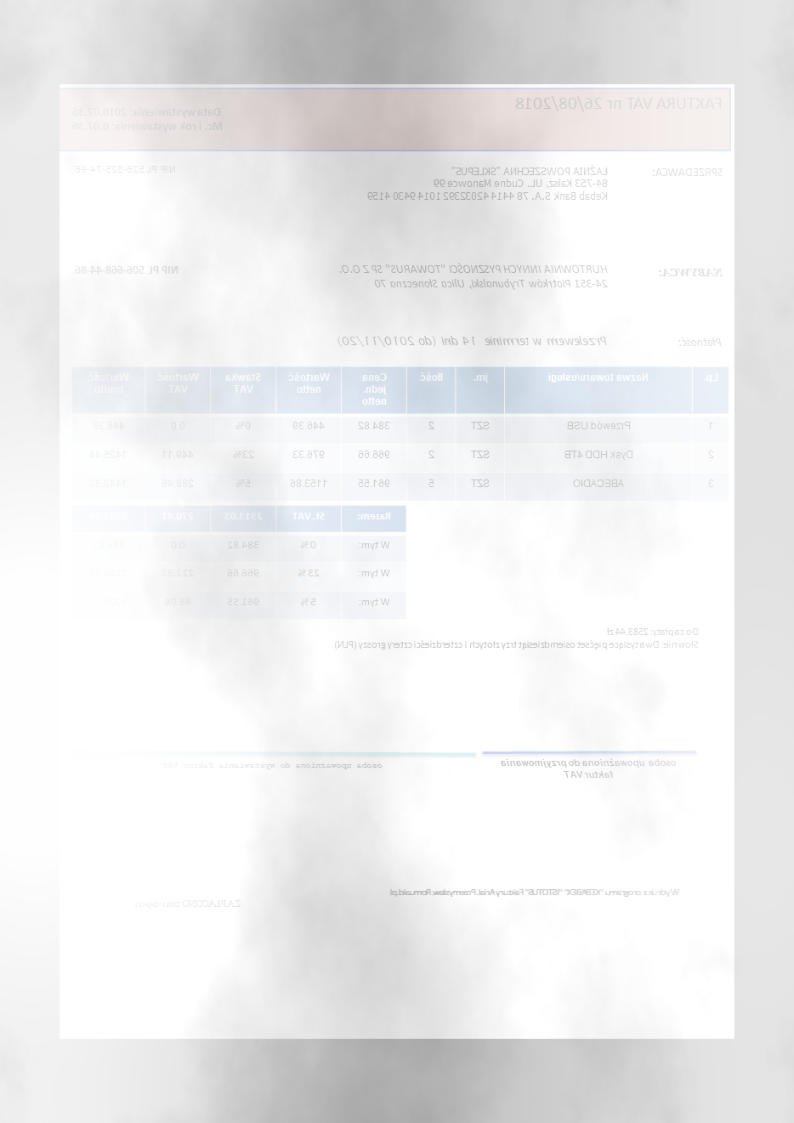Table: (71, 365, 730, 502), (71, 504, 408, 621)
TextBox: (332, 624, 700, 652), (365, 162, 610, 202), (338, 261, 610, 290), (69, 105, 225, 134), (513, 94, 724, 114), (497, 757, 678, 780), (335, 334, 609, 348), (388, 886, 683, 899), (160, 759, 385, 771), (72, 263, 181, 277), (72, 162, 178, 176), (132, 897, 243, 910), (650, 164, 725, 178), (655, 265, 725, 279), (678, 335, 724, 348)
